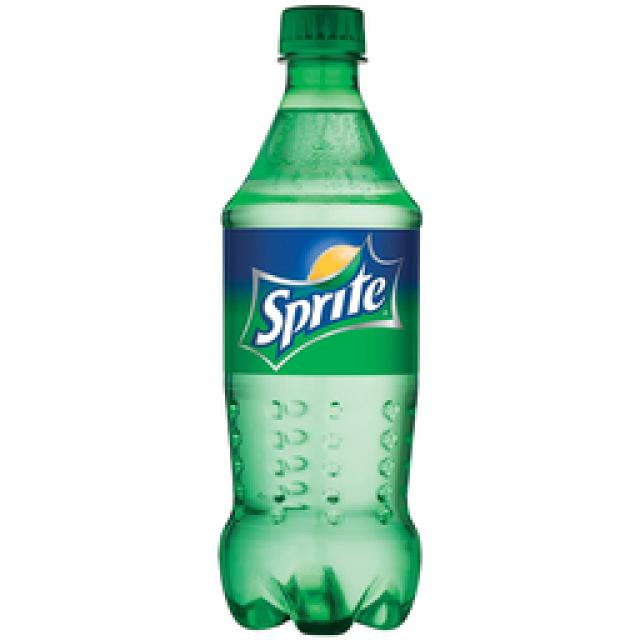plastic_soda_bottles: (218, 1, 426, 637)
